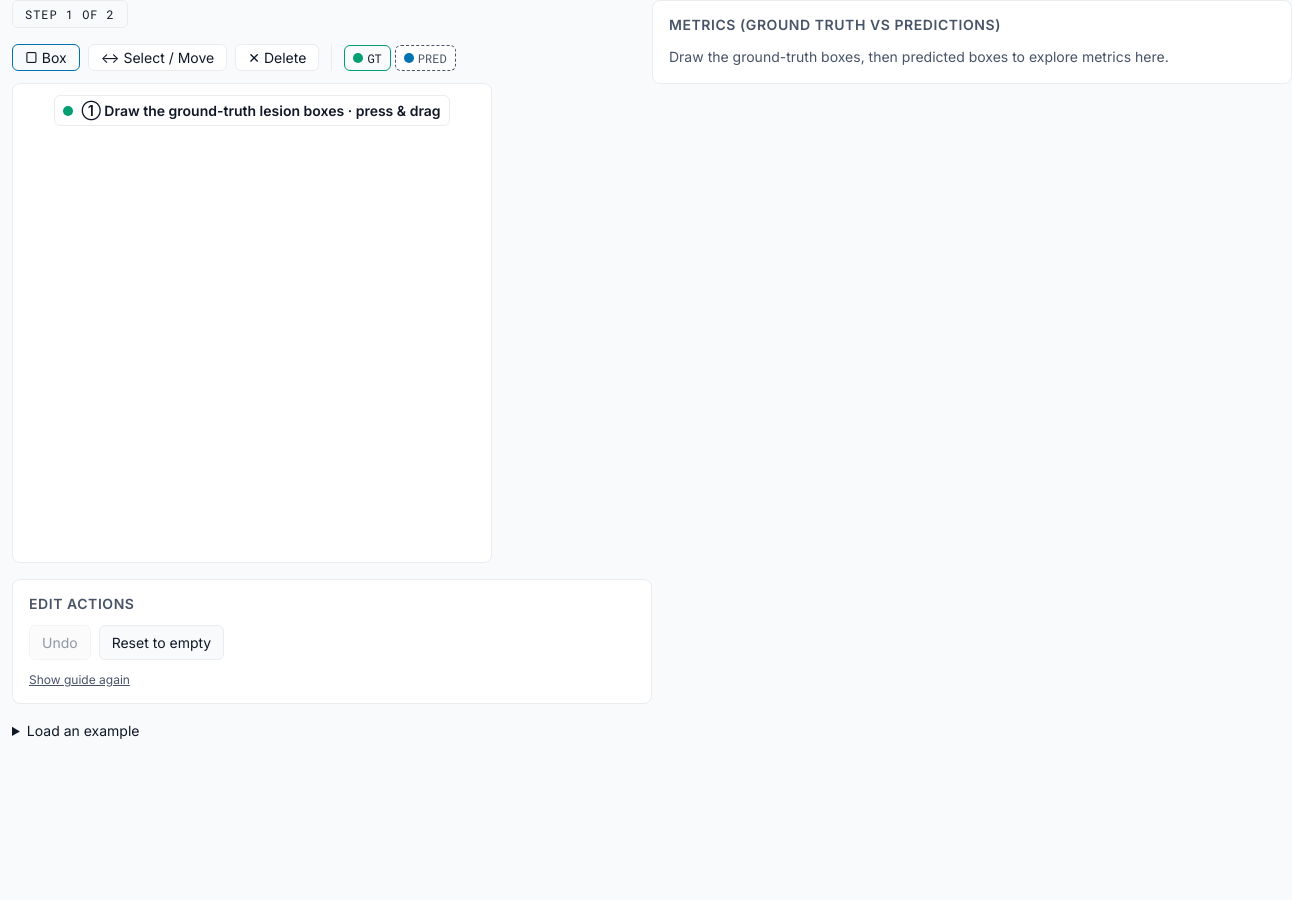
DetectionPlayground (guided empty boot) › Undo restores the prior drawn state
Step 1. Press the mouse on the drawing named "Detection editor" → (252, 323), box [12, 83, 492, 563]
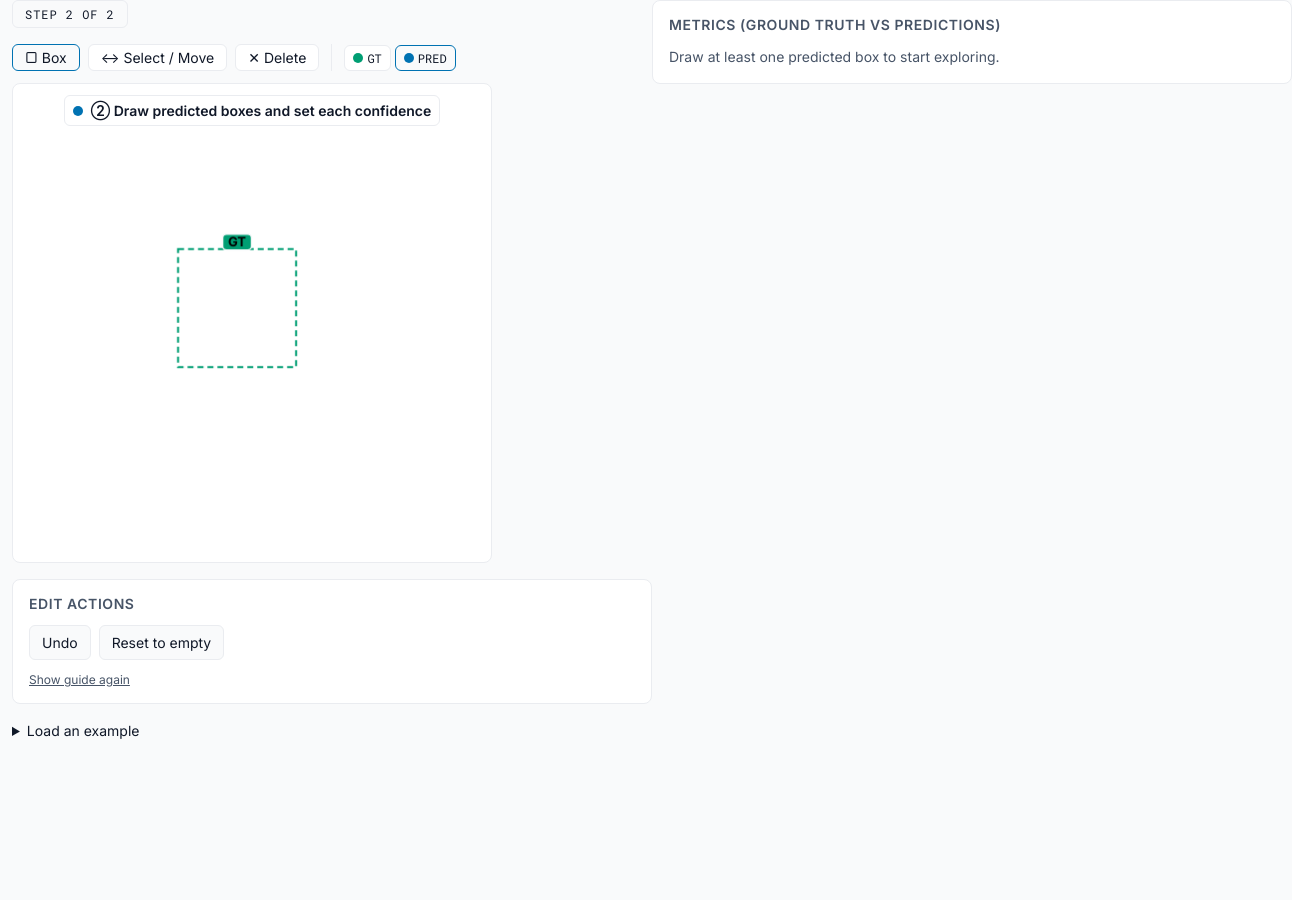
Check: the text "STEP 2 of 2" is shown, box [12, 0, 128, 28]
Step 2. Click the button "Undo" → (60, 642), box [29, 625, 91, 660]
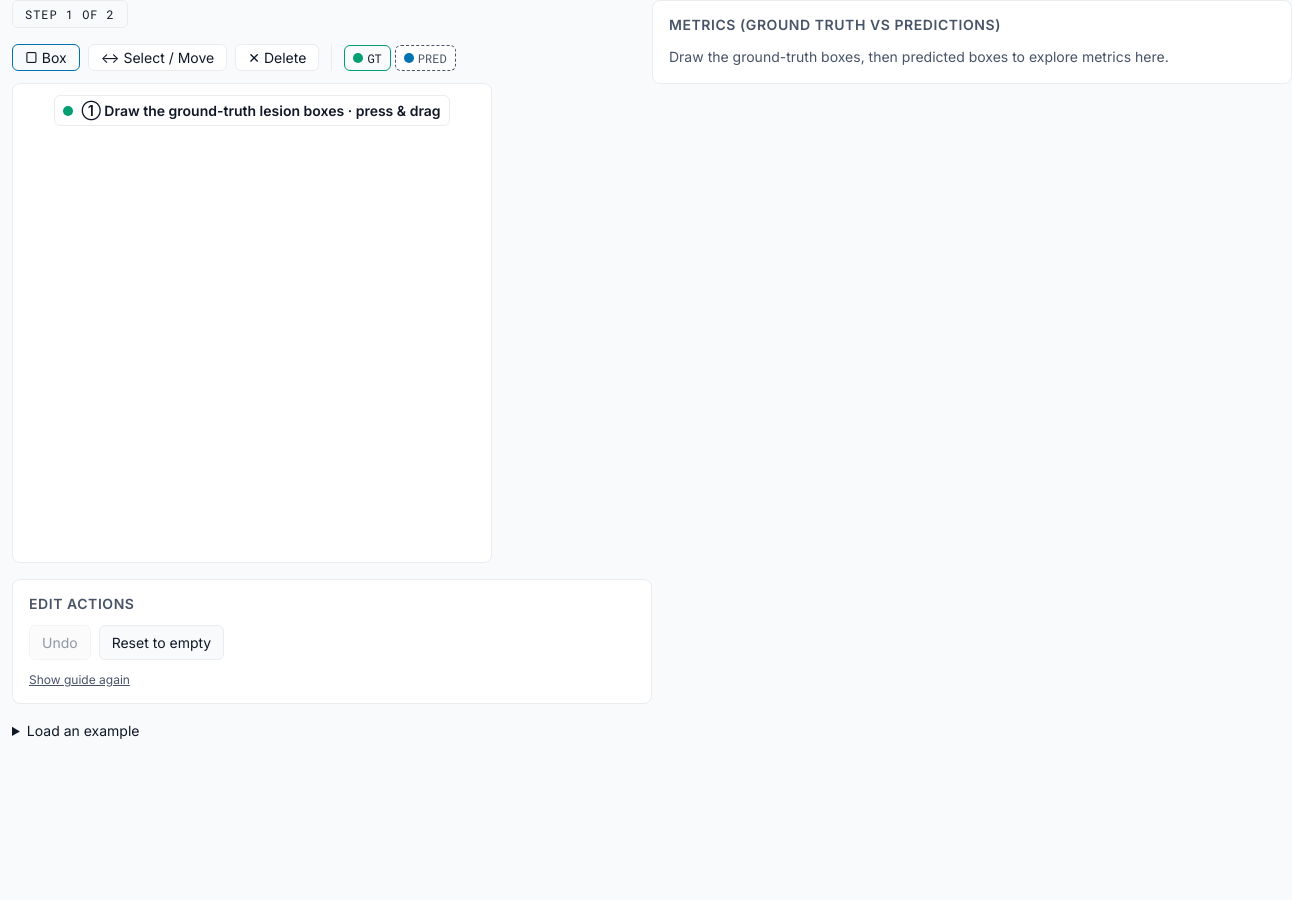
Check: the text "STEP 1 of 2" is shown, box [12, 0, 128, 28]
